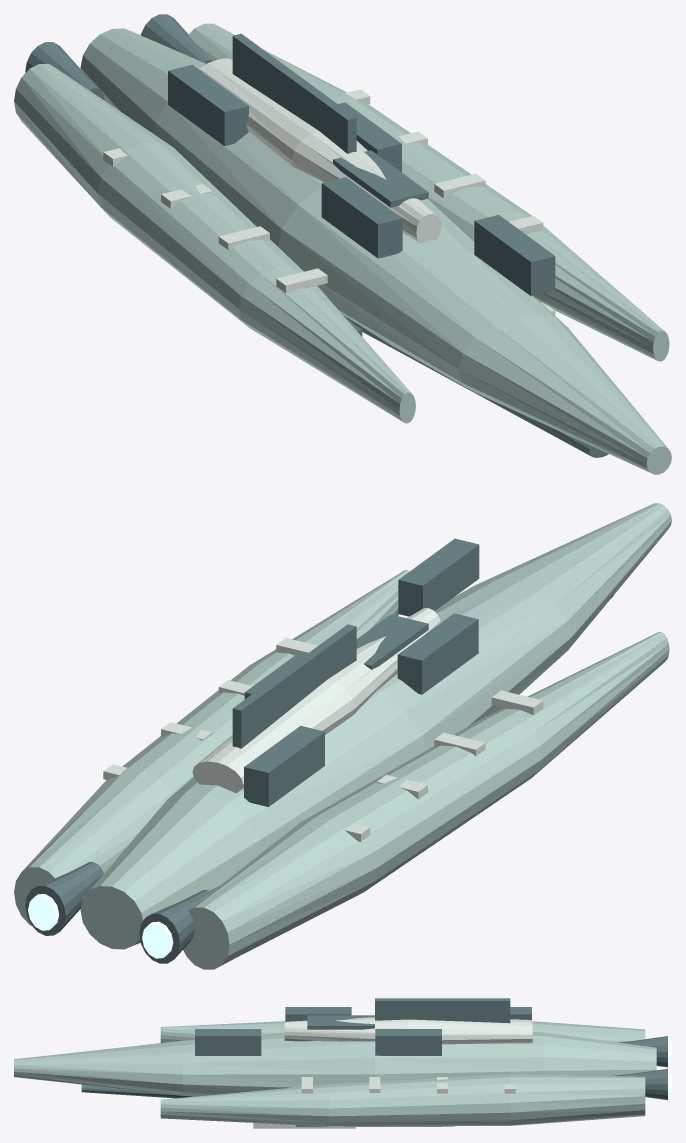
3 renders of one model, top to bottom at view 1: azimuth 30°, elevation 25°; view 2: azimuth 150°, elevation 25°; view 3: azimuth 270°, elevation 25°, orthographic. The views are drawn at different scales.
Size of the model in its own units: 7.46 by 4.19 by 23.78.
